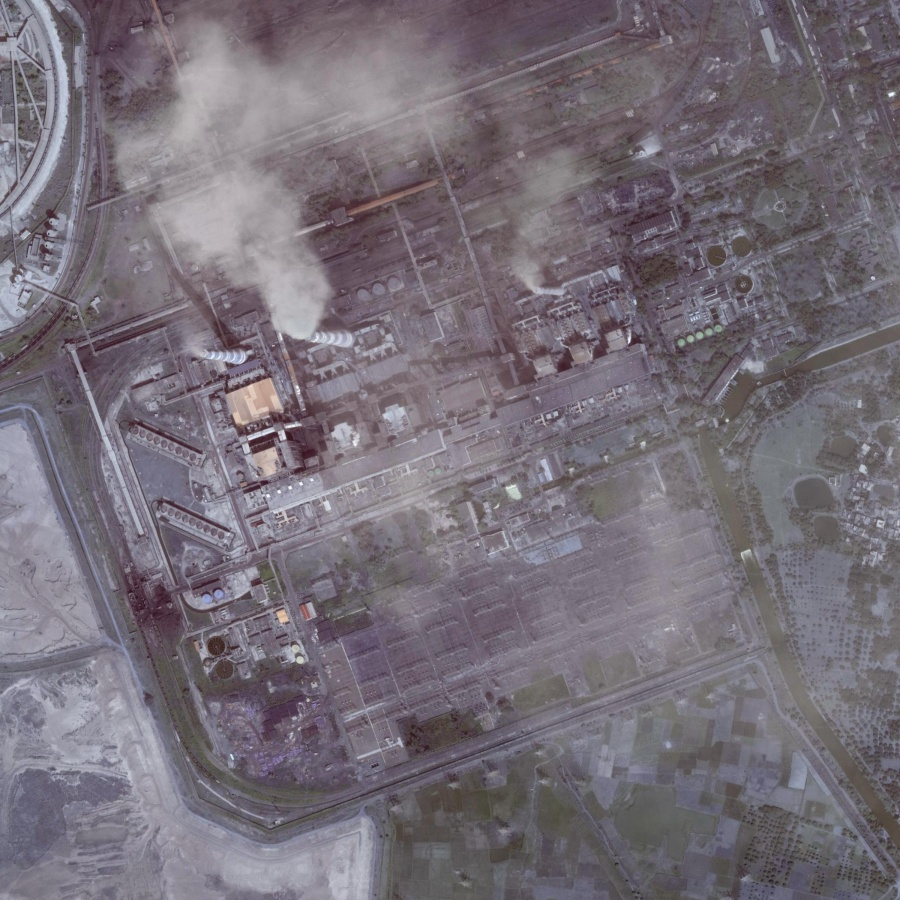PowerPlant: (150, 210, 634, 521)
